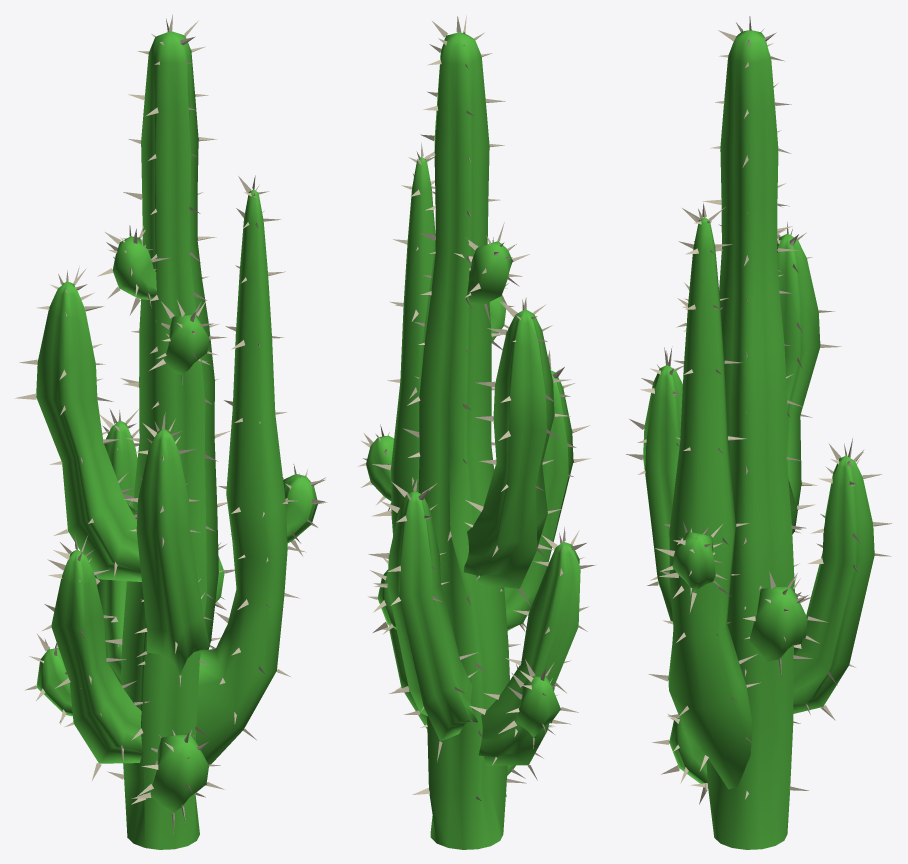
Rendered from cactusLarge.fbx.
The picture shows the model from 3 angles, left to right: view 1: azimuth 30°, elevation 25°; view 2: azimuth 150°, elevation 25°; view 3: azimuth 270°, elevation 25°; orthographic projection.
Visible parts, largest first — view 1: Sphere.002; view 2: Sphere.002; view 3: Sphere.002.
Part boxes in pixels (x1=…): Sphere.002: x1=14, y1=14, x2=327, y2=849; Sphere.002: x1=357, y1=15, x2=596, y2=849; Sphere.002: x1=626, y1=16, x2=891, y2=849.
Bounding box in the file's own units: 267 × 810 × 239.
